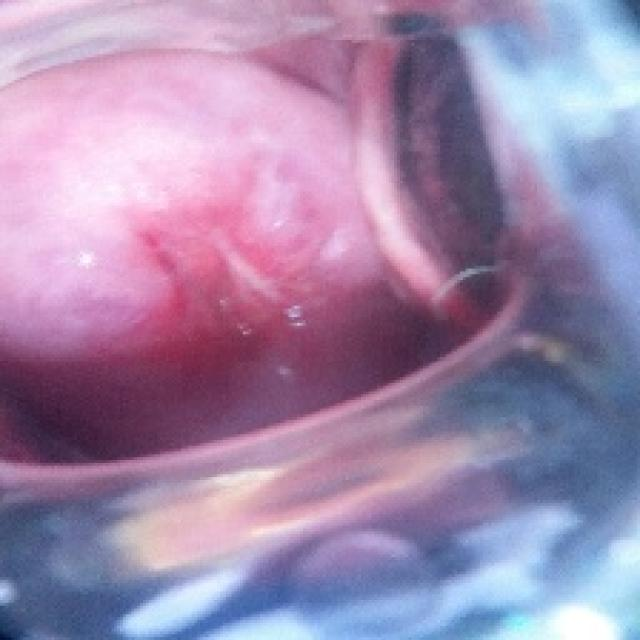type-3: (0, 0, 544, 494)
